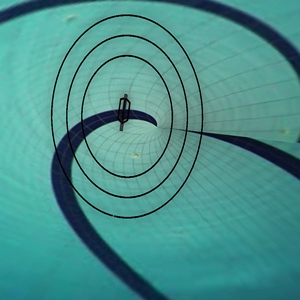circle: (27, 6, 210, 240)
submarine: (101, 88, 149, 141)
